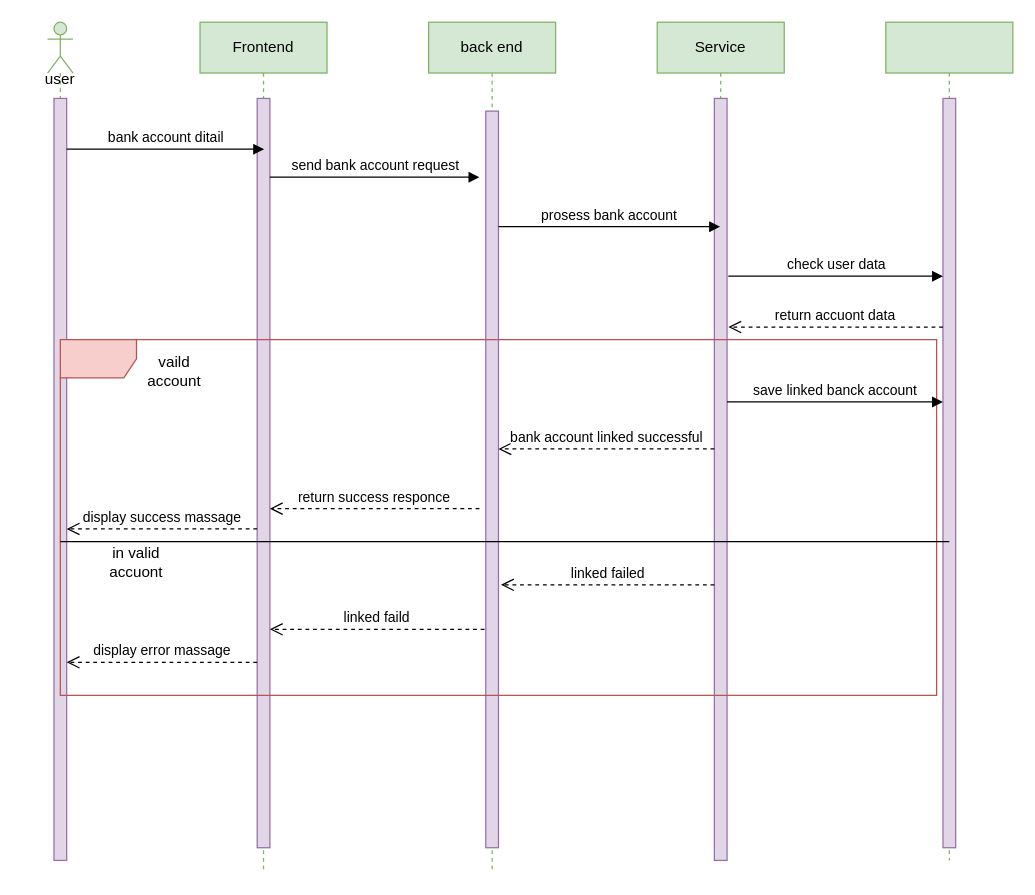
Image size: 1035x895. Some labels were removed from this diagram. The shapes that lost their labels are listed below. From the top down, each one's box as (x1, y1, x2, y2) in pixels, then its label:
(885, 21, 1013, 860): Database
(59, 338, 937, 695): alt
